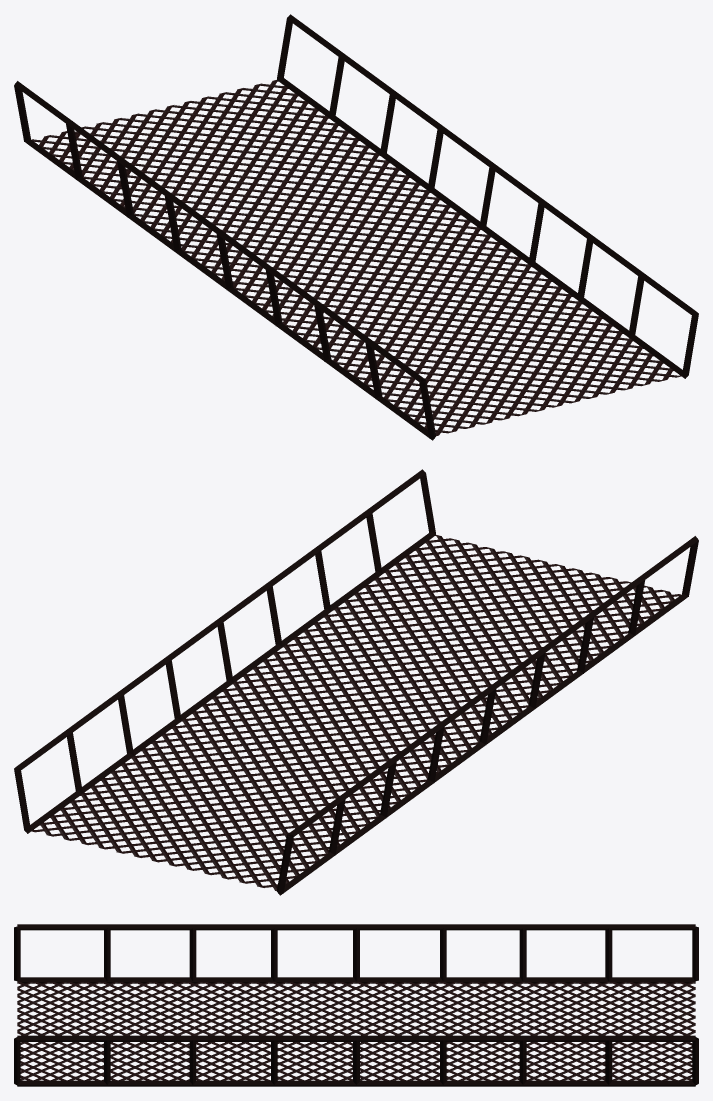
Rendered from Platform_I.fbx.
3 views of the same model, one above another, from view 1: azimuth 30°, elevation 25°; view 2: azimuth 150°, elevation 25°; view 3: azimuth 270°, elevation 25° (orthographic). The views are drawn at different scales.
Parts seen in each view (by area): view 1: Plat_I_2, Plat_I_2 Railing2, Plat_I_2 Railing1; view 2: Plat_I_2, Plat_I_2 Railing2, Plat_I_2 Railing1; view 3: Plat_I_2, Plat_I_2 Railing2, Plat_I_2 Railing1.
Boxes of the visible parts, x1=… form: Plat_I_2: x1=32, y1=80, x2=682, y2=436; Plat_I_2 Railing2: x1=277, y1=14, x2=698, y2=378; Plat_I_2 Railing1: x1=14, y1=81, x2=435, y2=440; Plat_I_2: x1=30, y1=535, x2=680, y2=891; Plat_I_2 Railing2: x1=14, y1=469, x2=435, y2=833; Plat_I_2 Railing1: x1=277, y1=536, x2=698, y2=895; Plat_I_2: x1=17, y1=982, x2=695, y2=1080; Plat_I_2 Railing2: x1=14, y1=1035, x2=698, y2=1086; Plat_I_2 Railing1: x1=14, y1=924, x2=698, y2=983.
Size of the model in its own units: 59.83 by 13.47 by 152.
2 materials, 1 textured.
